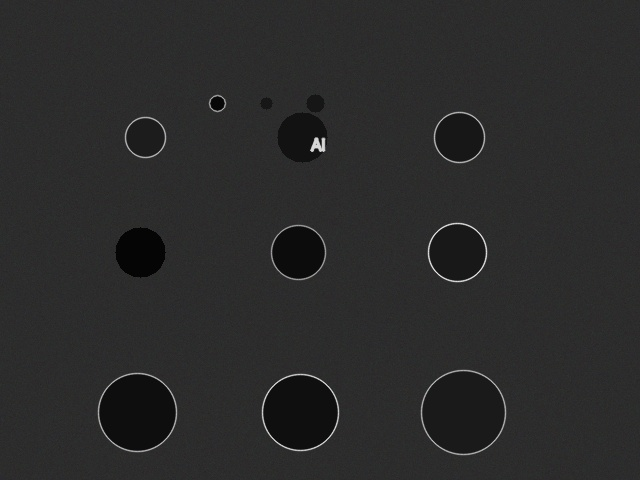hole: (421, 370, 505, 454), (98, 373, 176, 451), (262, 374, 338, 450), (428, 223, 486, 281), (271, 225, 325, 279), (277, 112, 327, 162), (434, 112, 484, 162), (115, 227, 165, 277), (125, 117, 165, 157), (306, 94, 324, 112), (209, 95, 225, 111), (260, 97, 272, 109)
